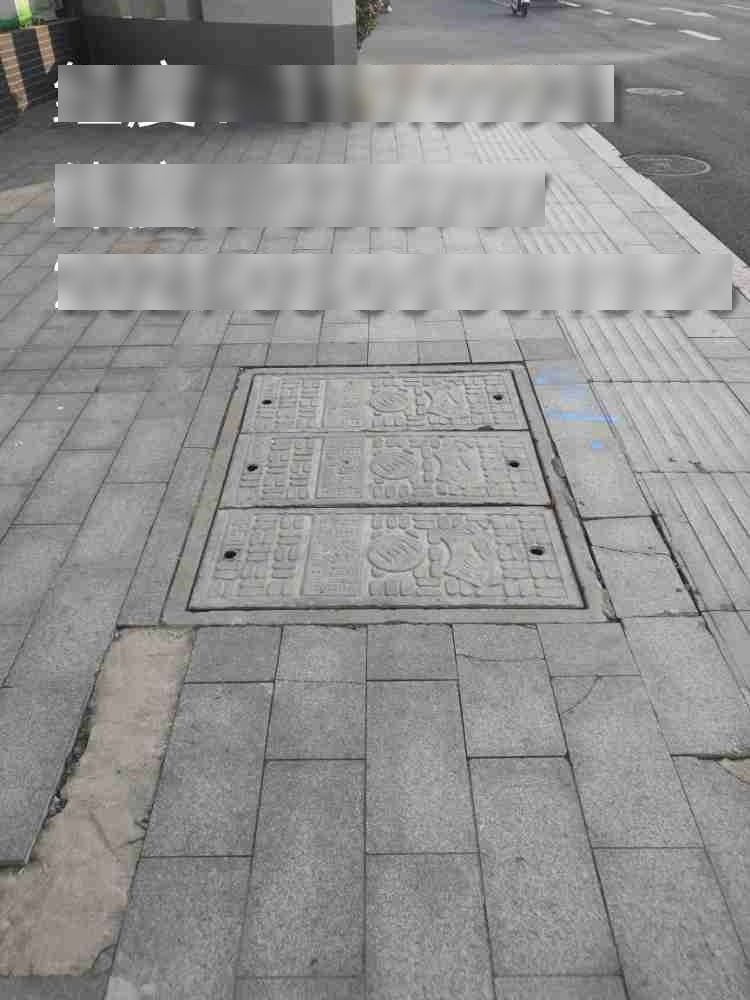good: (158, 362, 614, 627)
